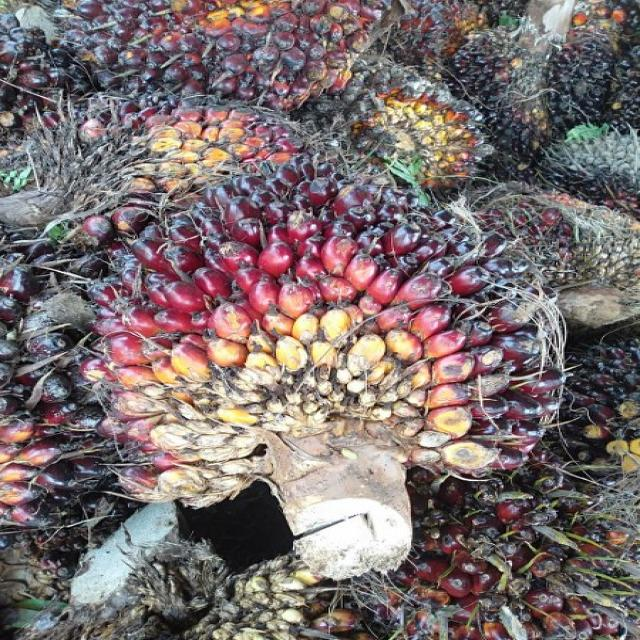fraksi 1: (61, 165, 558, 486)
